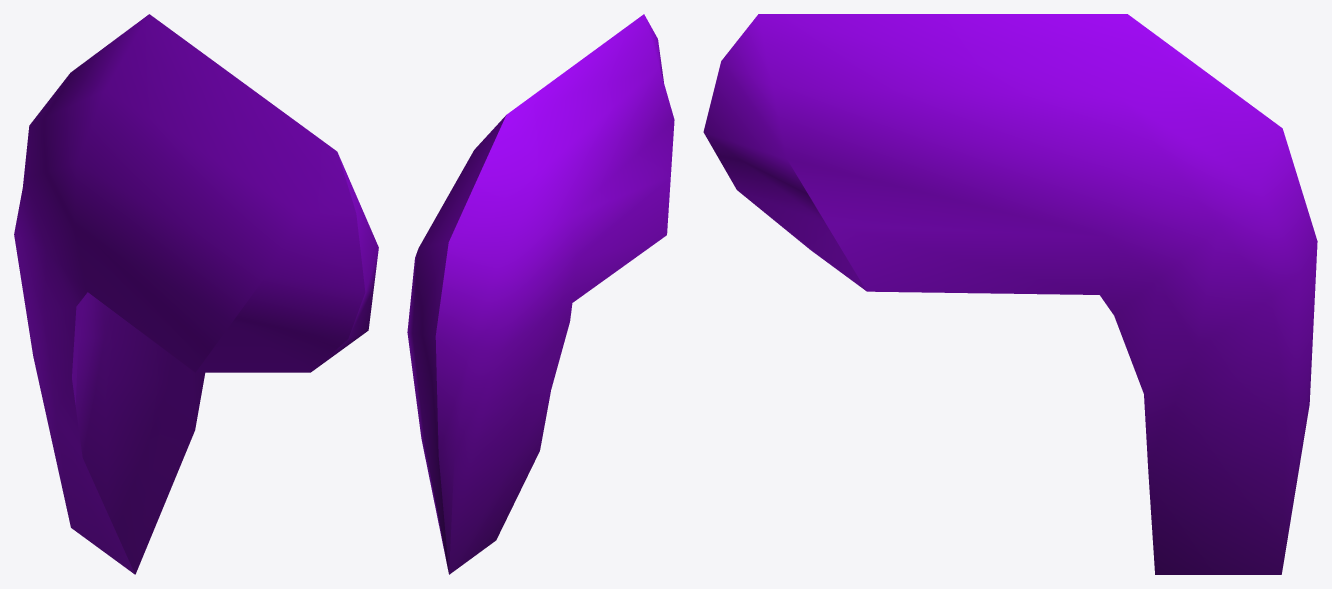
File: Hair_12_C02.fbx
3 renders of one model, left to right at view 1: azimuth 30°, elevation 25°; view 2: azimuth 150°, elevation 25°; view 3: azimuth 270°, elevation 25°, orthographic. The views are drawn at different scales.
Parts seen in each view (by area): view 1: Hair_12_C02; view 2: Hair_12_C02; view 3: Hair_12_C02.
Part boxes in pixels (box(x1,y1,x2,y2)): Hair_12_C02: box(14, 14, 378, 574); Hair_12_C02: box(407, 14, 674, 574); Hair_12_C02: box(703, 14, 1317, 574).
Size of the model in its own units: 38.32 by 120 by 119.
